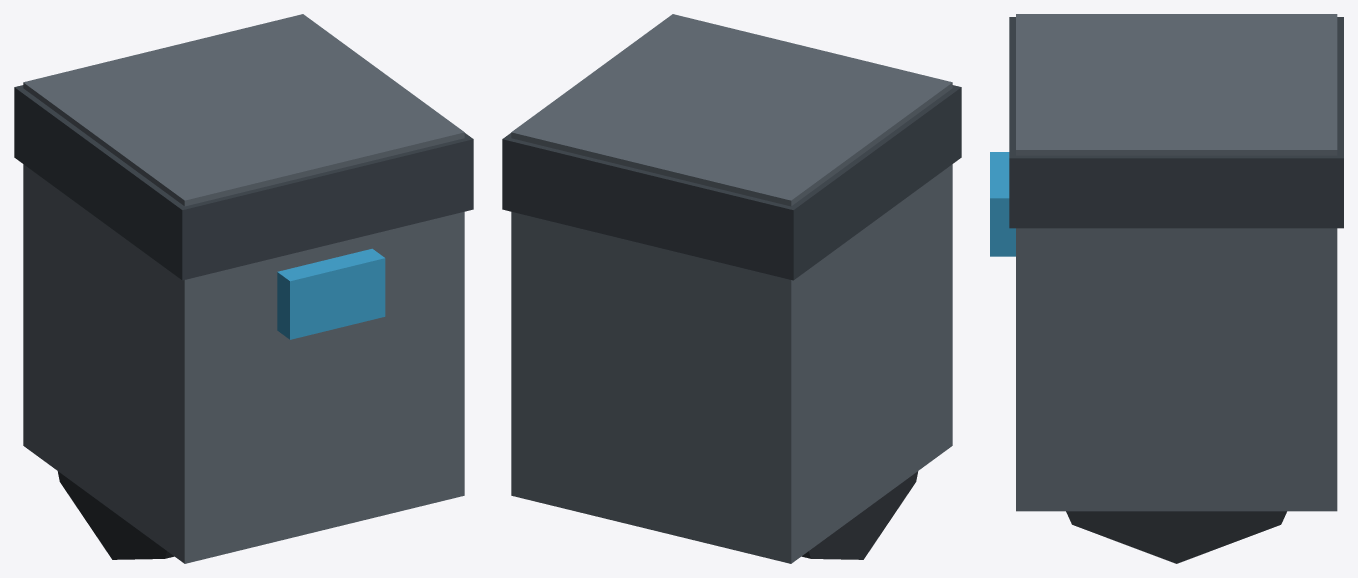
Rendered from pc_assault_upper_arm.fbx.
3 views of the same model, side by side, from view 1: azimuth 30°, elevation 25°; view 2: azimuth 150°, elevation 25°; view 3: azimuth 270°, elevation 25° (orthographic).
Visible parts, largest first — view 1: pc_assault_upper_arm; view 2: pc_assault_upper_arm; view 3: pc_assault_upper_arm.
Boxes of the visible parts, x1,y1,x2,y2 form: pc_assault_upper_arm: [14, 14, 473, 563]; pc_assault_upper_arm: [502, 14, 961, 563]; pc_assault_upper_arm: [990, 14, 1343, 563].
Bounding box in the file's own units: 104 × 144 × 110.
